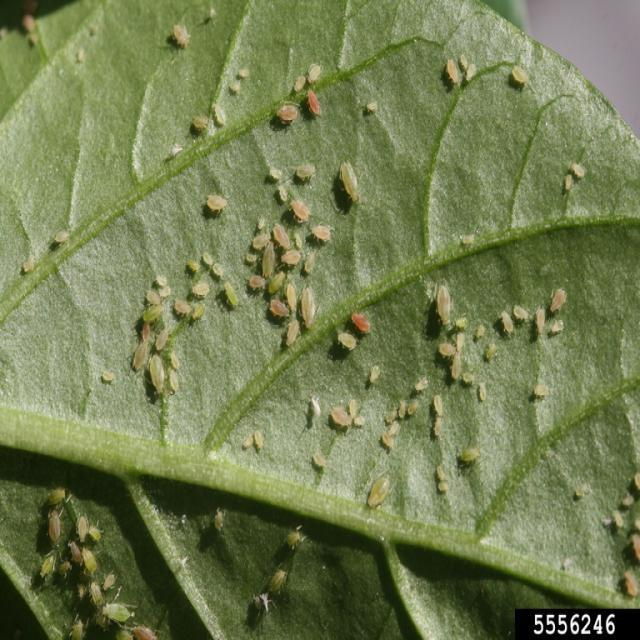Aphids: (236, 155, 360, 341), (25, 489, 163, 636), (424, 277, 586, 387), (120, 242, 224, 412), (269, 46, 345, 134), (300, 379, 379, 432), (436, 32, 484, 113), (380, 376, 420, 454), (428, 378, 452, 504), (364, 462, 408, 526), (320, 307, 376, 350), (187, 91, 227, 145), (554, 147, 590, 206), (504, 59, 544, 111), (168, 12, 206, 59), (199, 189, 237, 236), (260, 552, 300, 596), (462, 424, 484, 472)
